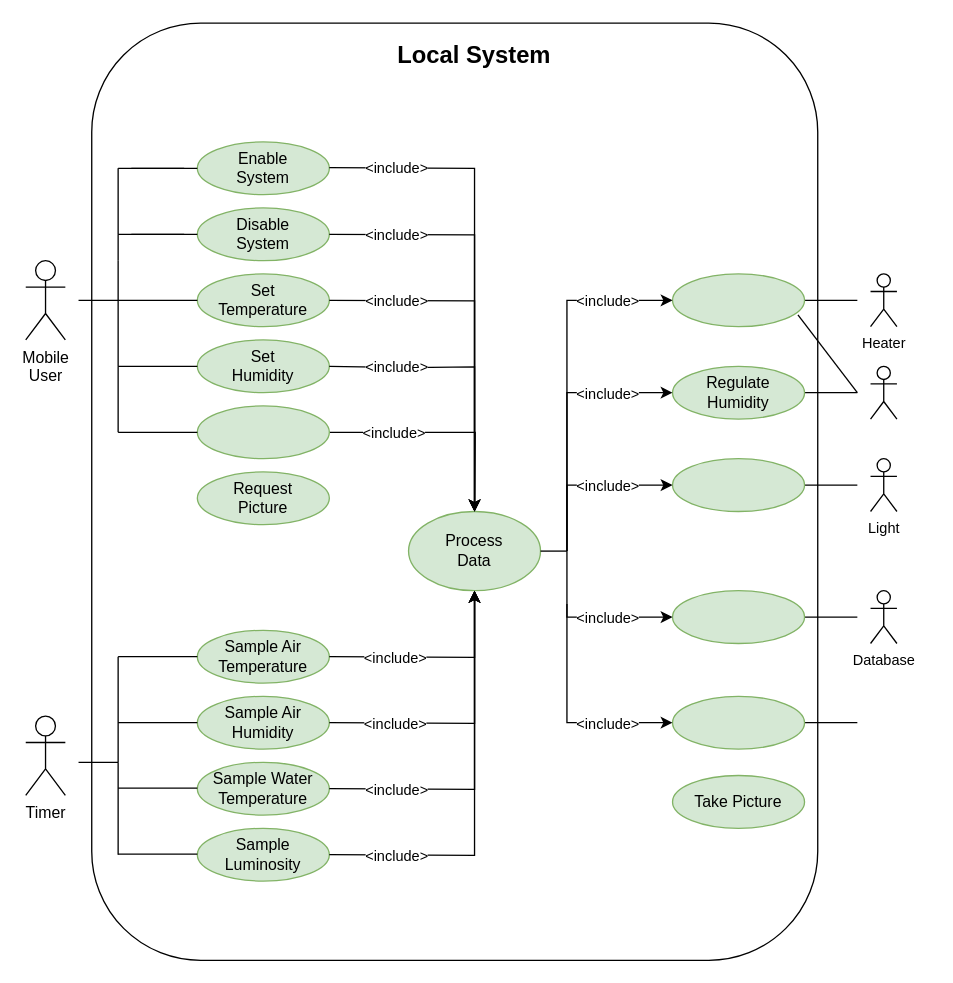
The diagram is 953 pixels wide and 983 high, and some of its shapes have lost their labels. The shapes that lost their labels are listed below. From the top down, each one's centre as x and y in pixels, then its label:
the point at 738,300: Regulate Temperature
the point at 883,392: Window Motor
the point at 262,432: Request Report
the point at 738,484: Regulate Luminosity
the point at 738,616: Send Data
the point at 738,722: Display Data
